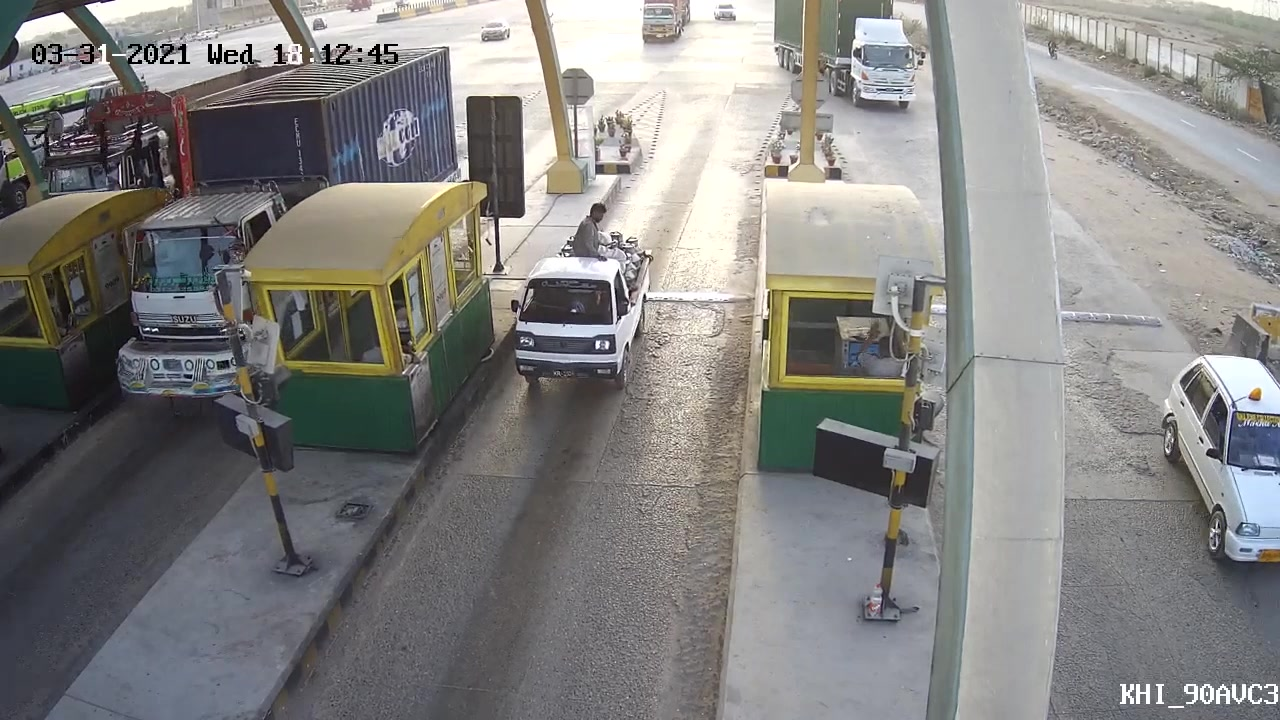F2: (508, 225, 654, 395)
